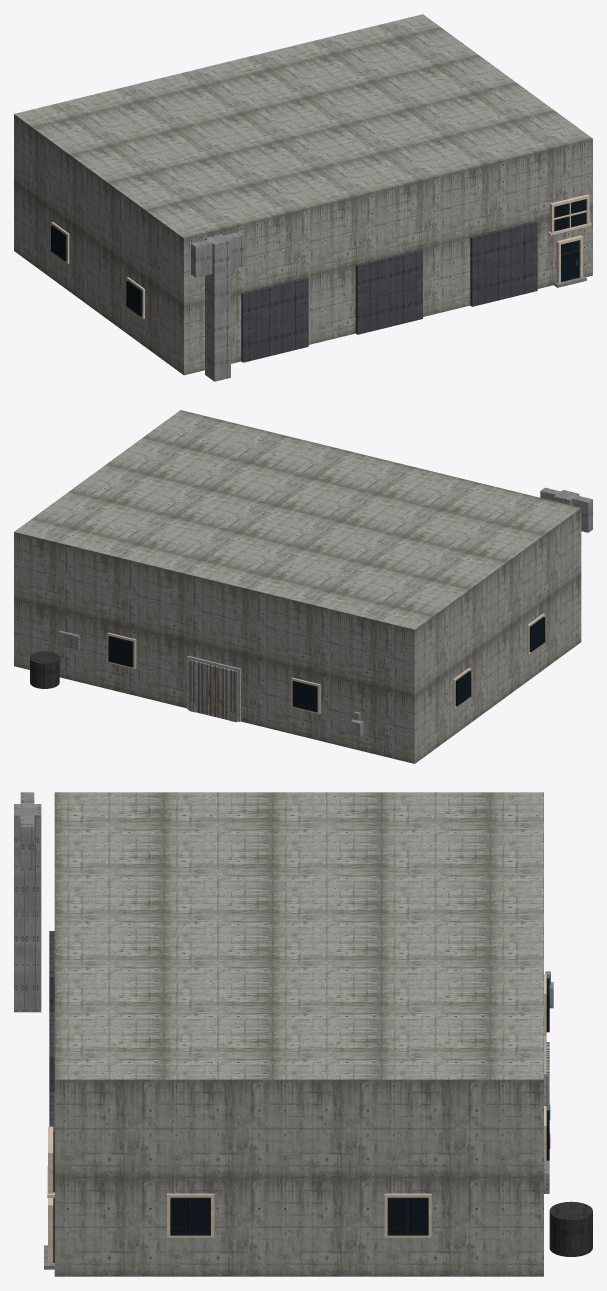
Rendered from auto-repair-shop_lod0.gltf.
3 renders of one model, top to bottom at view 1: azimuth 30°, elevation 25°; view 2: azimuth 150°, elevation 25°; view 3: azimuth 270°, elevation 25°, orthographic. The views are drawn at different scales.
Parts seen in each view (by area): view 1: auto-repair-shop_main, auto-repair-shop__bay_door_c, auto-repair-shop__bay_door_a, auto-repair-shop__bay_door_b, auto-repair-shop__pylon, auto-repair-shop_fen_07-glass-curtain-blue_1_t, auto-repair-shop_fen_04-limestone_0, auto-repair-shop__pylon_cabinet; view 2: auto-repair-shop_main, auto-repair-shop_fen_21-corrugated-steel_5, auto-repair-shop_fen_07-glass-curtain-blue_1_t, auto-repair-shop__tire_stacks, auto-repair-shop_fen_04-limestone_0, auto-repair-shop_fen_14-steel-panel_6, auto-repair-shop__pylon_cabinet, auto-repair-shop_fen_15-concrete-boardformed_4; view 3: auto-repair-shop_main, auto-repair-shop__pylon, auto-repair-shop_fen_07-glass-curtain-blue_1_t, auto-repair-shop_fen_04-limestone_0, auto-repair-shop__tire_stacks, auto-repair-shop__pylon_cabinet.
Boxes of the visible parts, left/top/right/bottom form: auto-repair-shop_main: left=14, top=14, right=592, bottom=375; auto-repair-shop__bay_door_c: left=470, top=221, right=537, bottom=306; auto-repair-shop__bay_door_a: left=241, top=277, right=308, bottom=362; auto-repair-shop__bay_door_b: left=355, top=249, right=422, bottom=334; auto-repair-shop__pylon: left=205, top=234, right=230, bottom=381; auto-repair-shop_fen_07-glass-curtain-blue_1_t: left=51, top=199, right=586, bottom=316; auto-repair-shop_fen_04-limestone_0: left=51, top=194, right=591, bottom=319; auto-repair-shop__pylon_cabinet: left=191, top=231, right=244, bottom=277; auto-repair-shop_main: left=14, top=410, right=581, bottom=763; auto-repair-shop_fen_21-corrugated-steel_5: left=188, top=659, right=237, bottom=722; auto-repair-shop_fen_07-glass-curtain-blue_1_t: left=108, top=616, right=545, bottom=712; auto-repair-shop__tire_stacks: left=30, top=651, right=59, bottom=688; auto-repair-shop_fen_04-limestone_0: left=107, top=613, right=544, bottom=713; auto-repair-shop_fen_14-steel-panel_6: left=58, top=630, right=363, bottom=736; auto-repair-shop__pylon_cabinet: left=540, top=487, right=592, bottom=532; auto-repair-shop_fen_15-concrete-boardformed_4: left=187, top=656, right=240, bottom=721; auto-repair-shop_main: left=54, top=792, right=543, bottom=1276; auto-repair-shop__pylon: left=14, top=804, right=41, bottom=1012; auto-repair-shop_fen_07-glass-curtain-blue_1_t: left=53, top=978, right=549, bottom=1262; auto-repair-shop_fen_04-limestone_0: left=47, top=974, right=546, bottom=1264; auto-repair-shop__tire_stacks: left=549, top=1201, right=592, bottom=1256; auto-repair-shop__pylon_cabinet: left=20, top=792, right=34, bottom=870.
Bounding box in the file's own units: 25.4 × 8 × 21.3.
